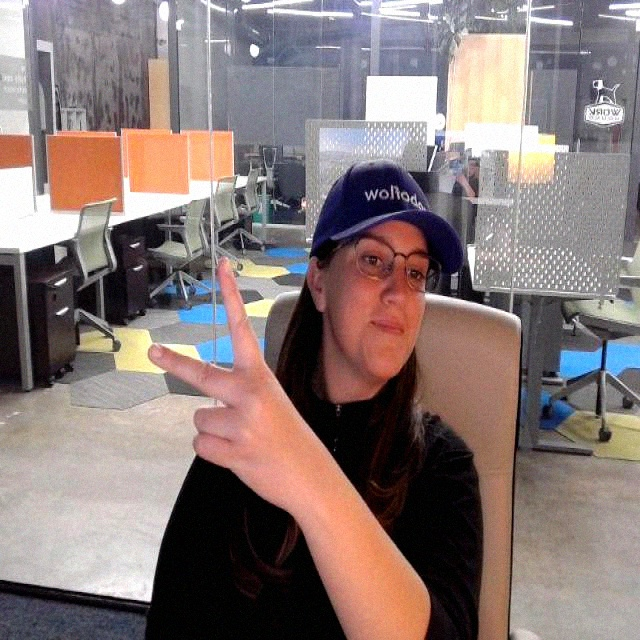Scissors: (146, 251, 310, 516)
